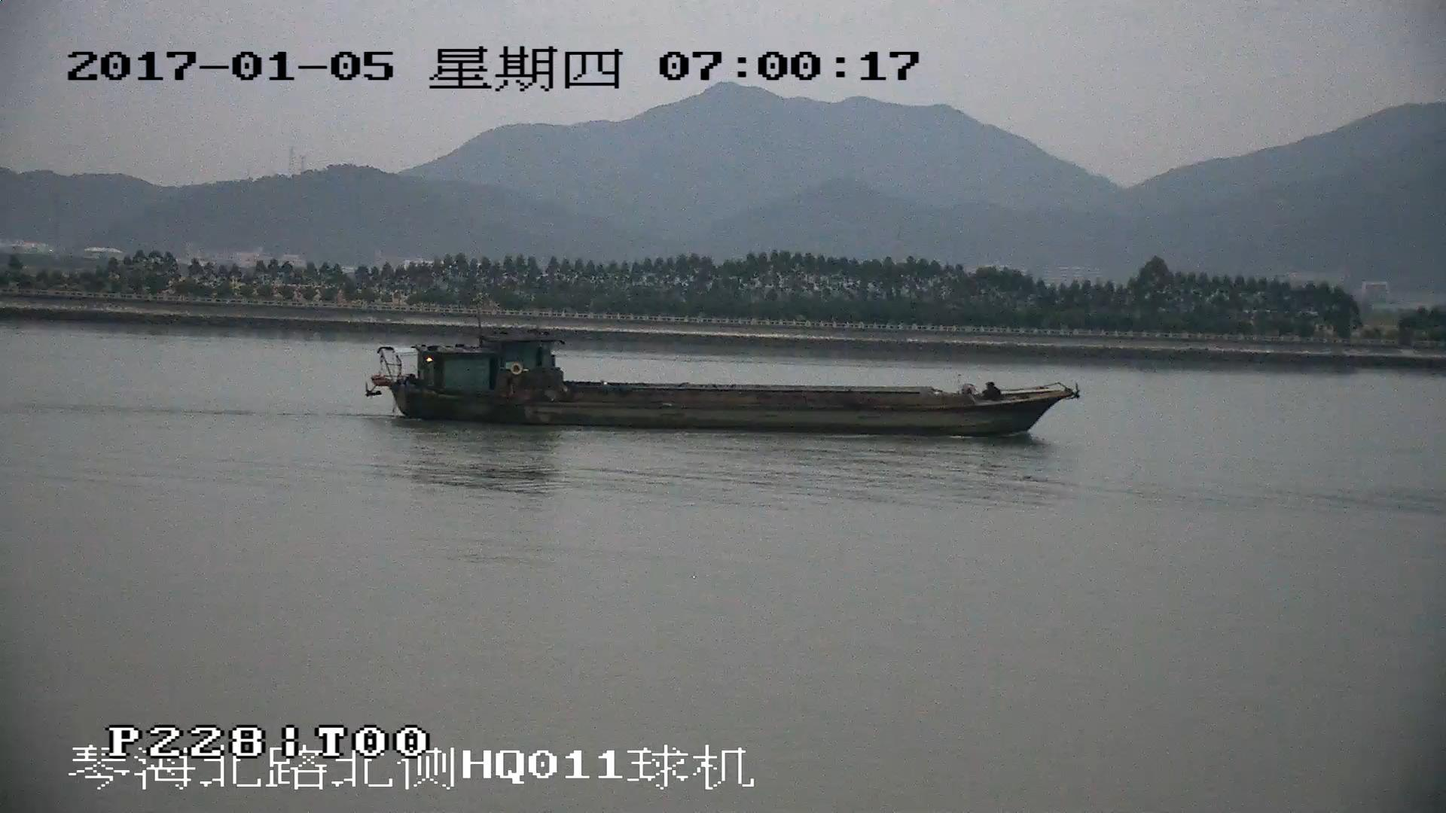bulk cargo carrier: (362, 337, 1079, 433)
